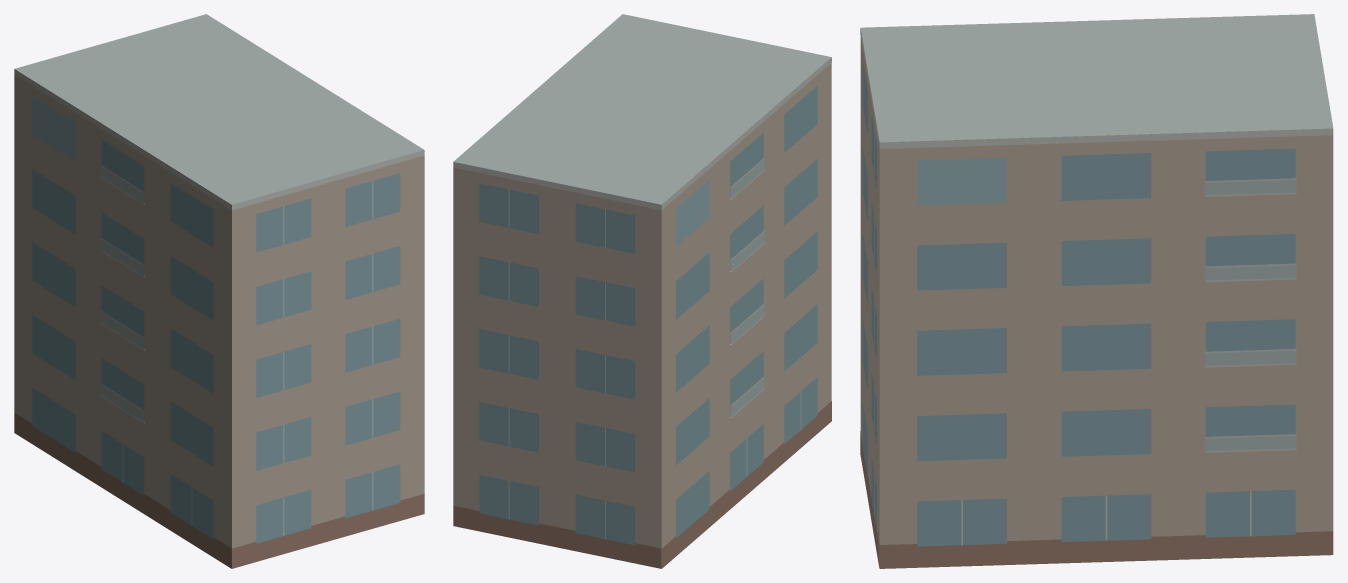
The model's file is survey-upis-32531122.glb.
The picture shows the model from 3 angles, left to right: view 1: azimuth 30°, elevation 25°; view 2: azimuth 150°, elevation 25°; view 3: azimuth 270°, elevation 25°; orthographic projection. The views are drawn at different scales.
Parts seen in each view (by area): view 1: survey-upis-32531122.tmp; view 2: survey-upis-32531122.tmp; view 3: survey-upis-32531122.tmp.
Boxes of the visible parts, box(x1,y1,x2,y2) form: survey-upis-32531122.tmp: box(14, 14, 424, 568); survey-upis-32531122.tmp: box(453, 14, 831, 568); survey-upis-32531122.tmp: box(860, 14, 1333, 568).
Size of the model in its own units: 10.21 by 15.8 by 15.89.
